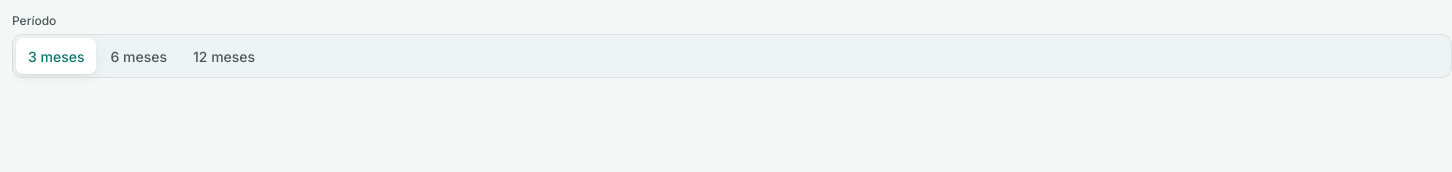
Test: ControlSegmentado › cambia con clic
The image size is (1452, 172).
Step 1. Click the radio button labelled "12 meses" → (224, 56), box [181,38,267,74]
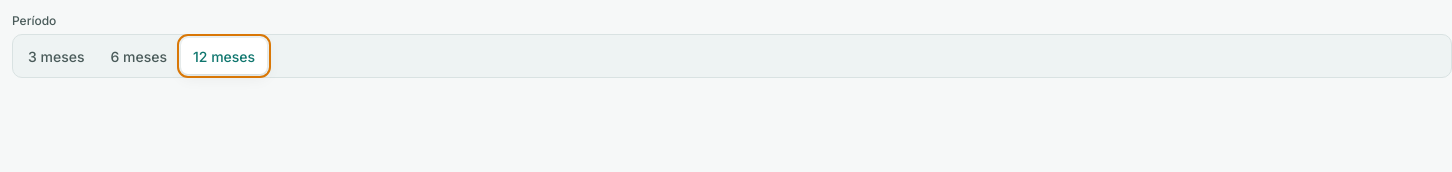
Now the radio button labelled "12 meses" is checked, box [181,38,267,74]
